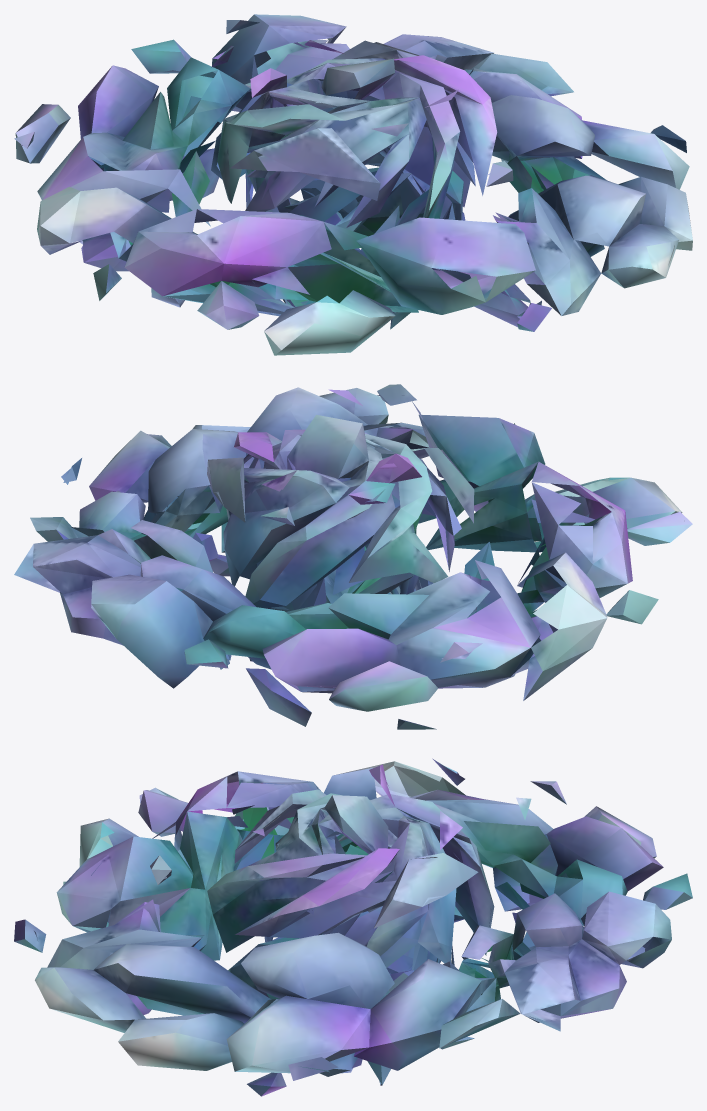
The model's file is 毒霧瘴氣.glb.
3 renders of one model, top to bottom at view 1: azimuth 30°, elevation 25°; view 2: azimuth 150°, elevation 25°; view 3: azimuth 270°, elevation 25°, orthographic. The views are drawn at different scales.
Visible parts, largest first — view 1: geometry_0; view 2: geometry_0; view 3: geometry_0.
Part boxes in pixels (box(x1,y1,x2,y2)): geometry_0: box(14, 14, 692, 355); geometry_0: box(14, 384, 692, 729); geometry_0: box(14, 758, 692, 1096).
Bounding box in the file's own units: 0.9797 × 0.4093 × 0.9978.
Materials: 1 (1 with a texture image).
